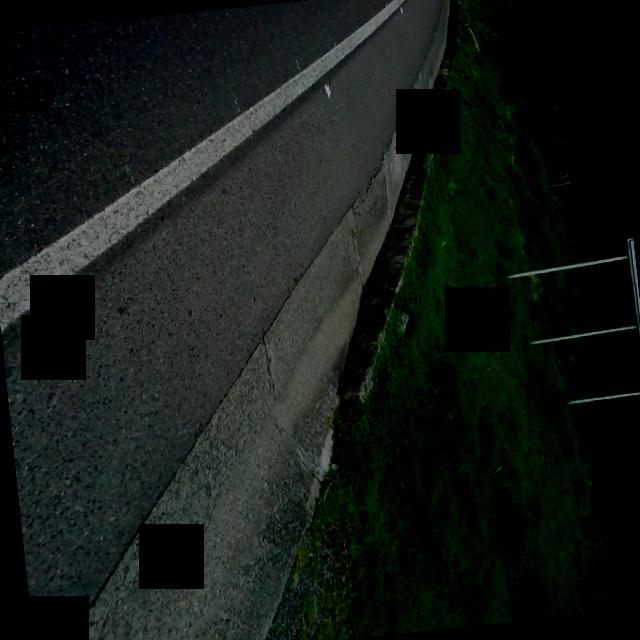DITCH: (0, 0, 568, 640), (0, 0, 521, 640), (0, 0, 489, 640)
